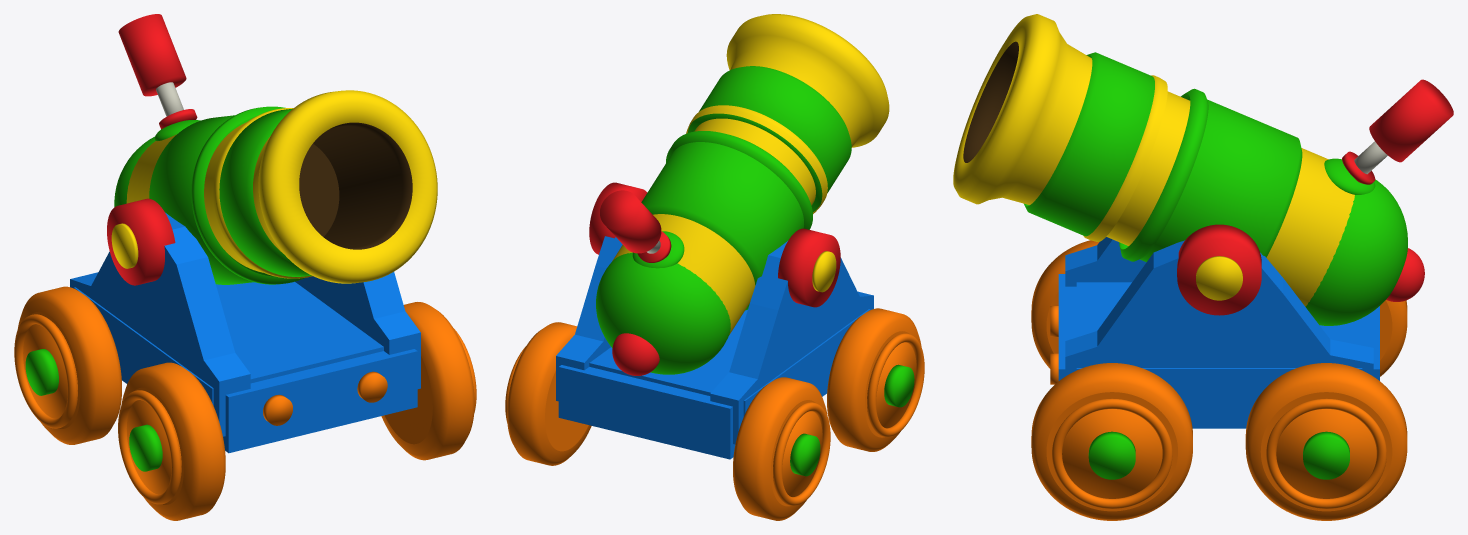
The model's file is cannon-v1-batched-v1509.glb.
3 views of the same model, side by side, from view 1: azimuth 30°, elevation 25°; view 2: azimuth 150°, elevation 25°; view 3: azimuth 270°, elevation 25° (orthographic). The views are drawn at different scales.
Visible parts, largest first — view 1: Body material 6, Body material 5, Barrel material 3, Barrel material 0, Blue rectangular chassis, Barrel material 4, Barrel material 2, Body material 2, Body material 0, Body material 3, Barrel material 1; view 2: Barrel material 0, Body material 6, Body material 5, Barrel material 3, Blue rectangular chassis, Barrel material 2, Body material 2, Body material 0, Body material 3; view 3: Body material 6, Barrel material 0, Barrel material 3, Body material 5, Blue rectangular chassis, Barrel material 2, Body material 2, Body material 0, Barrel material 4, Body material 3, Barrel material 1.
Part boxes in pixels (left/top/right/bottom): Body material 6: left=14, top=286, right=476, bottom=520; Body material 5: left=70, top=212, right=420, bottom=453; Barrel material 3: left=126, top=90, right=437, bottom=283; Barrel material 0: left=114, top=106, right=311, bottom=284; Blue rectangular chassis: left=74, top=281, right=383, bottom=405; Barrel material 4: left=299, top=122, right=412, bottom=249; Barrel material 2: left=118, top=14, right=197, bottom=129; Body material 2: left=107, top=198, right=175, bottom=285; Body material 0: left=25, top=349, right=162, bottom=471; Body material 3: left=111, top=223, right=138, bottom=268; Barrel material 1: left=156, top=82, right=183, bottom=116; Barrel material 0: left=596, top=66, right=851, bottom=374; Body material 6: left=505, top=308, right=924, bottom=520; Body material 5: left=556, top=236, right=873, bottom=459; Barrel material 3: left=612, top=14, right=889, bottom=335; Blue rectangular chassis: left=589, top=309, right=870, bottom=416; Barrel material 2: left=600, top=190, right=671, bottom=375; Body material 2: left=589, top=182, right=840, bottom=307; Body material 0: left=790, top=364, right=914, bottom=476; Body material 3: left=812, top=251, right=836, bottom=292; Body material 6: left=1031, top=240, right=1407, bottom=520; Barrel material 0: left=1024, top=52, right=1407, bottom=325; Barrel material 3: left=953, top=14, right=1354, bottom=306; Body material 5: left=1058, top=237, right=1379, bottom=380; Blue rectangular chassis: left=1076, top=282, right=1362, bottom=428; Barrel material 2: left=1342, top=79, right=1453, bottom=301; Body material 2: left=1177, top=224, right=1261, bottom=315; Body material 0: left=1088, top=431, right=1349, bottom=479; Barrel material 4: left=963, top=41, right=1018, bottom=162; Body material 3: left=1196, top=256, right=1242, bottom=300; Barrel material 1: left=1354, top=141, right=1387, bottom=174.
Bounding box in the file's own units: 1.99 × 2.52 × 2.66.
